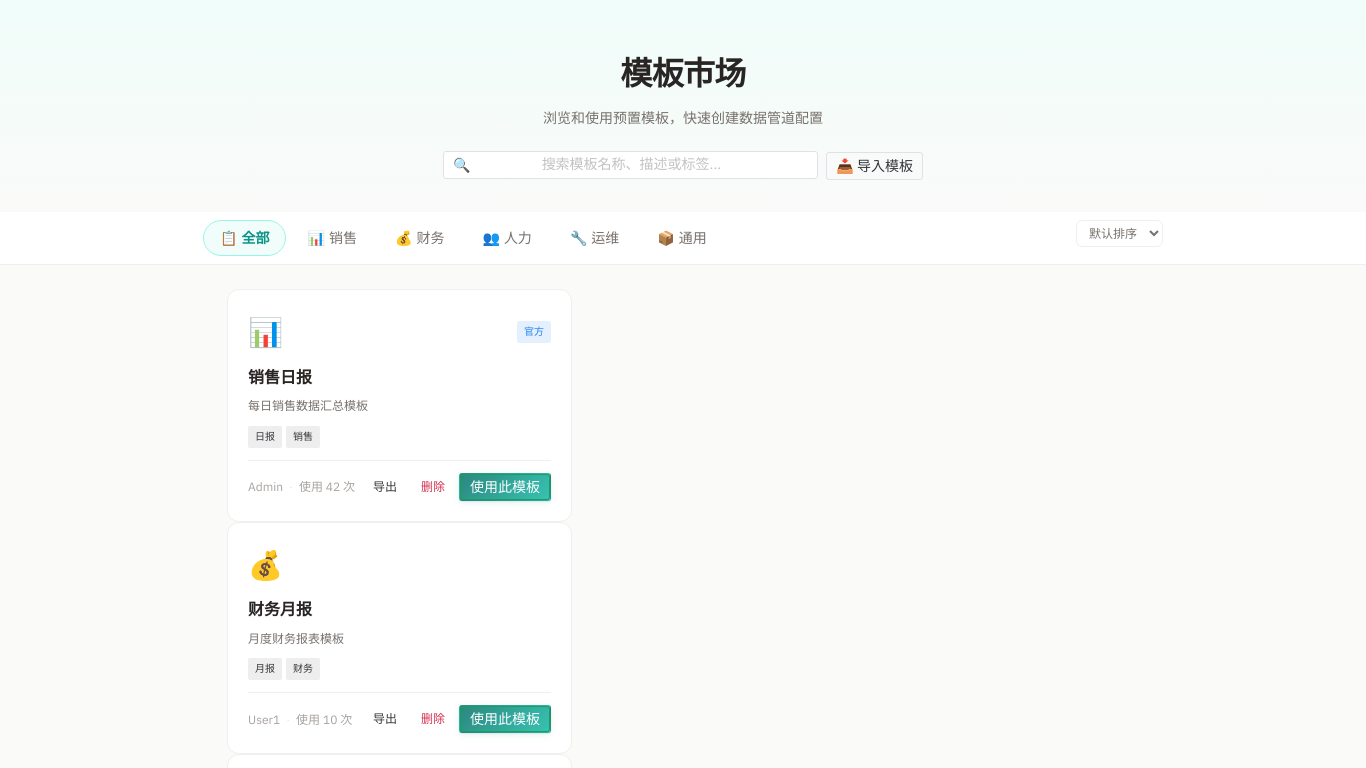
it: TemplateMarketView › shows confirmation UI after clicking delete
Click the button with class "market__card-delete" in the row of "使用 42 次" at (433, 486), box [411,472,455,500]
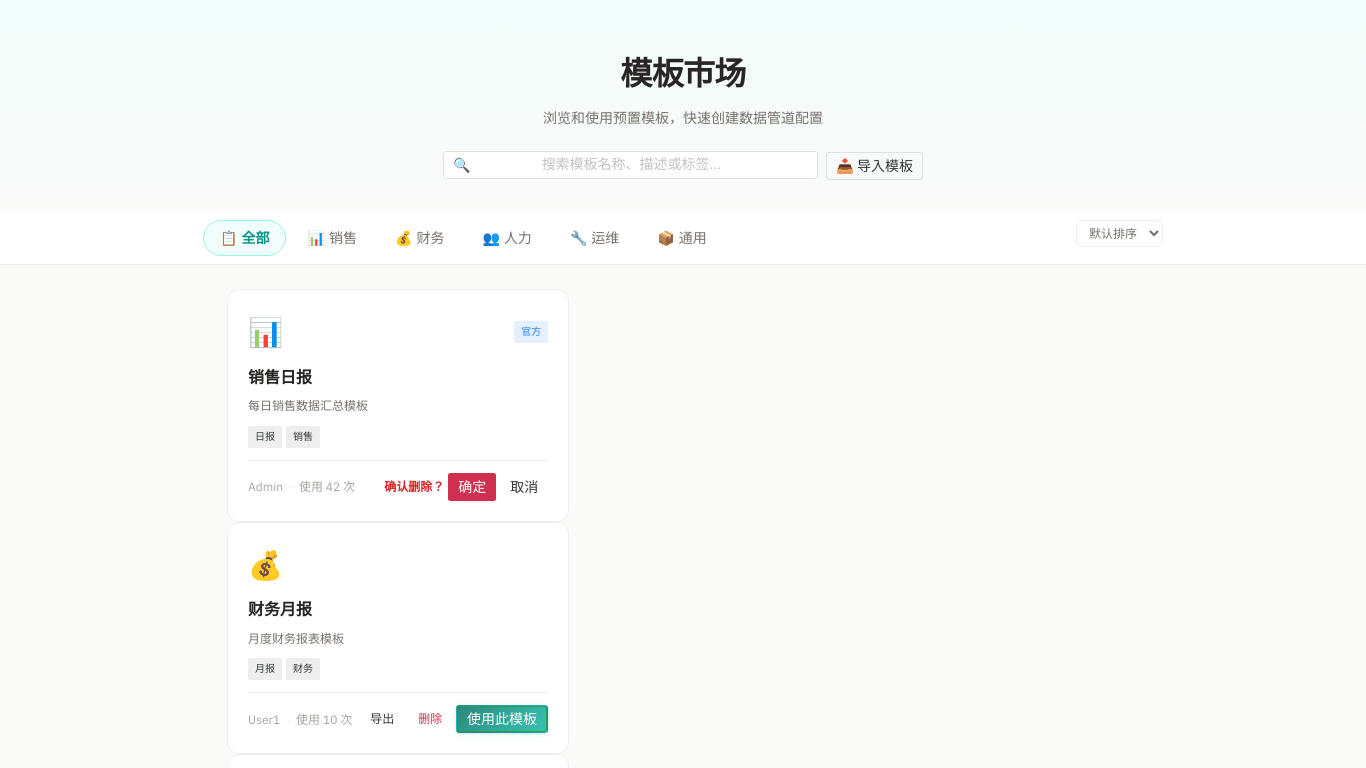
Result: the text "确认删除？" is shown at [384,477,444,496]
